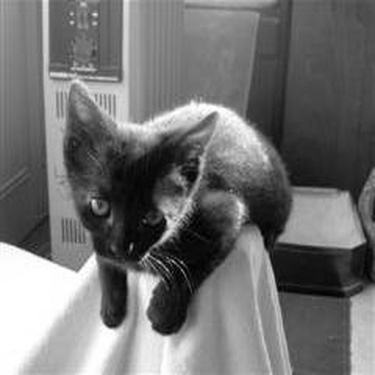cat: (28, 64, 303, 329)
